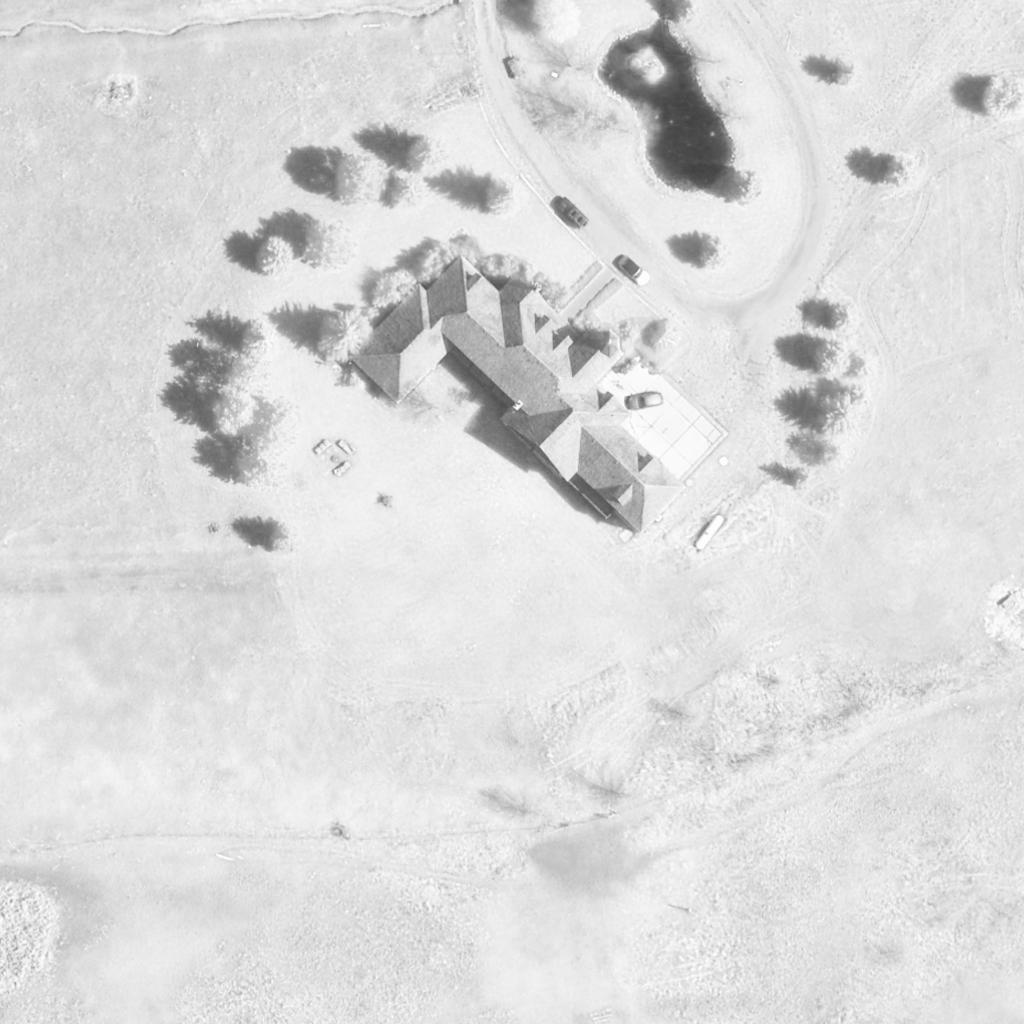vehicle: (616, 253, 652, 289), (551, 196, 589, 230), (624, 392, 664, 410)
